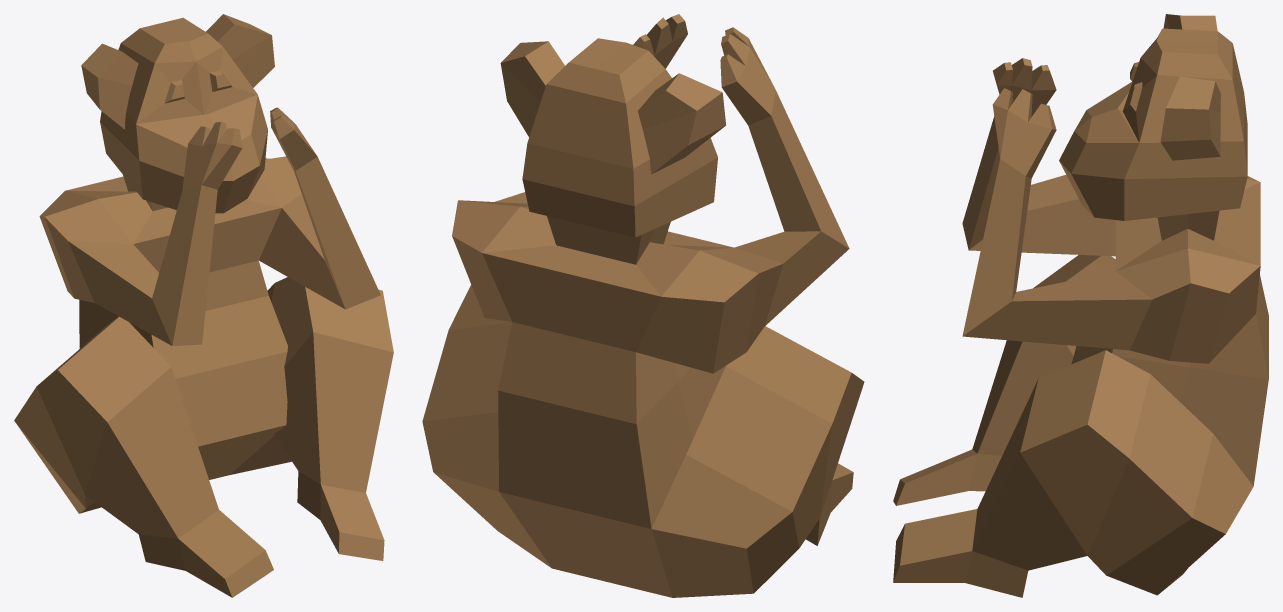
File: Monkey_Statue.fbx
3 views of the same model, side by side, from view 1: azimuth 30°, elevation 25°; view 2: azimuth 150°, elevation 25°; view 3: azimuth 270°, elevation 25° (orthographic). The views are drawn at different scales.
Parts seen in each view (by area): view 1: Monkey_Statue; view 2: Monkey_Statue; view 3: Monkey_Statue.
Boxes of the visible parts, x1=… form: Monkey_Statue: x1=14, y1=14, x2=393, y2=597; Monkey_Statue: x1=422, y1=14, x2=864, y2=597; Monkey_Statue: x1=893, y1=14, x2=1268, y2=597.
Size of the model in its own units: 34.34 by 45.38 by 30.53.
